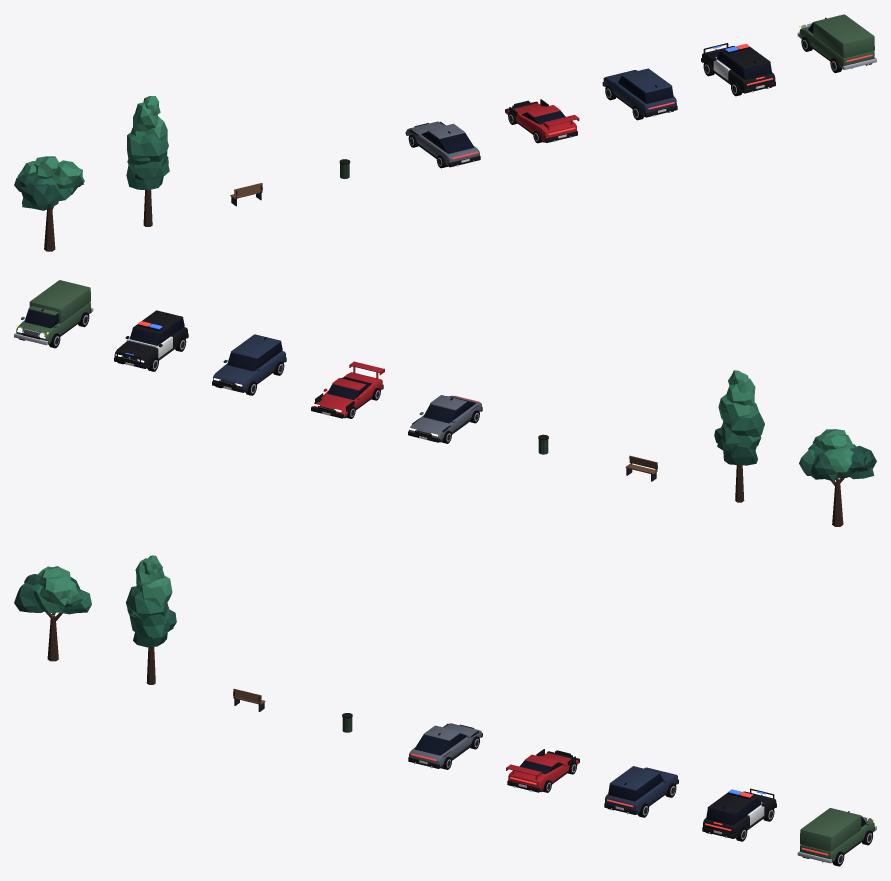
File: props.glb
The picture shows the model from 3 angles, top to bottom: view 1: azimuth 30°, elevation 25°; view 2: azimuth 150°, elevation 25°; view 3: azimuth 330°, elevation 25°; orthographic projection.
Visible parts, largest first — view 1: tree_b, tree, car_e, car_d, car_c, car_a, car_b; view 2: tree_b, car_e, tree, car_d, car_c, car_b, car_a; view 3: tree_b, tree, car_e, car_d, car_c, car_a, car_b.
Part boxes in pixels (box(x1,y1,x2,y2)): tree_b: box(126, 96, 169, 226); tree: box(14, 156, 84, 251); car_e: box(797, 14, 876, 72); car_d: box(701, 43, 775, 96); car_c: box(602, 68, 677, 120); car_a: box(405, 120, 480, 168); car_b: box(505, 98, 579, 143); tree_b: box(714, 370, 764, 502); car_e: box(14, 280, 93, 348); tree: box(799, 429, 876, 526); car_d: box(114, 310, 188, 371); car_c: box(212, 334, 286, 395); car_b: box(311, 361, 384, 418); car_a: box(408, 395, 482, 443); tree_b: box(126, 555, 176, 684); tree: box(14, 566, 91, 661); car_e: box(797, 808, 876, 866); car_d: box(702, 788, 776, 841); car_c: box(604, 766, 678, 817); car_a: box(408, 722, 482, 769); car_b: box(506, 748, 579, 792).
Bounding box in the file's own units: 51.08 × 7.55 × 4.94.
